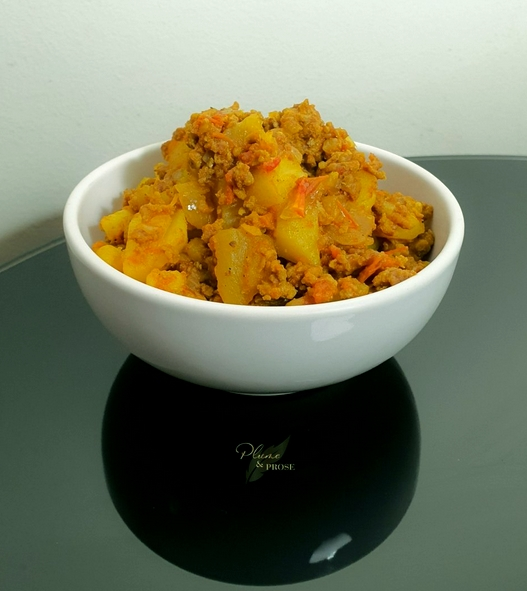pomme de terre: (125, 216, 195, 249)
tomate: (290, 190, 303, 220)
viande hachée: (194, 150, 256, 205)
